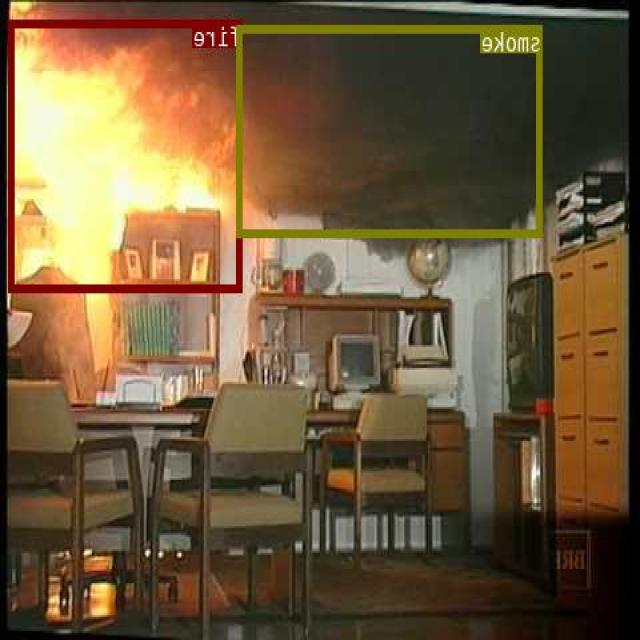fire: (10, 18, 243, 292)
smoke: (238, 24, 544, 236)
